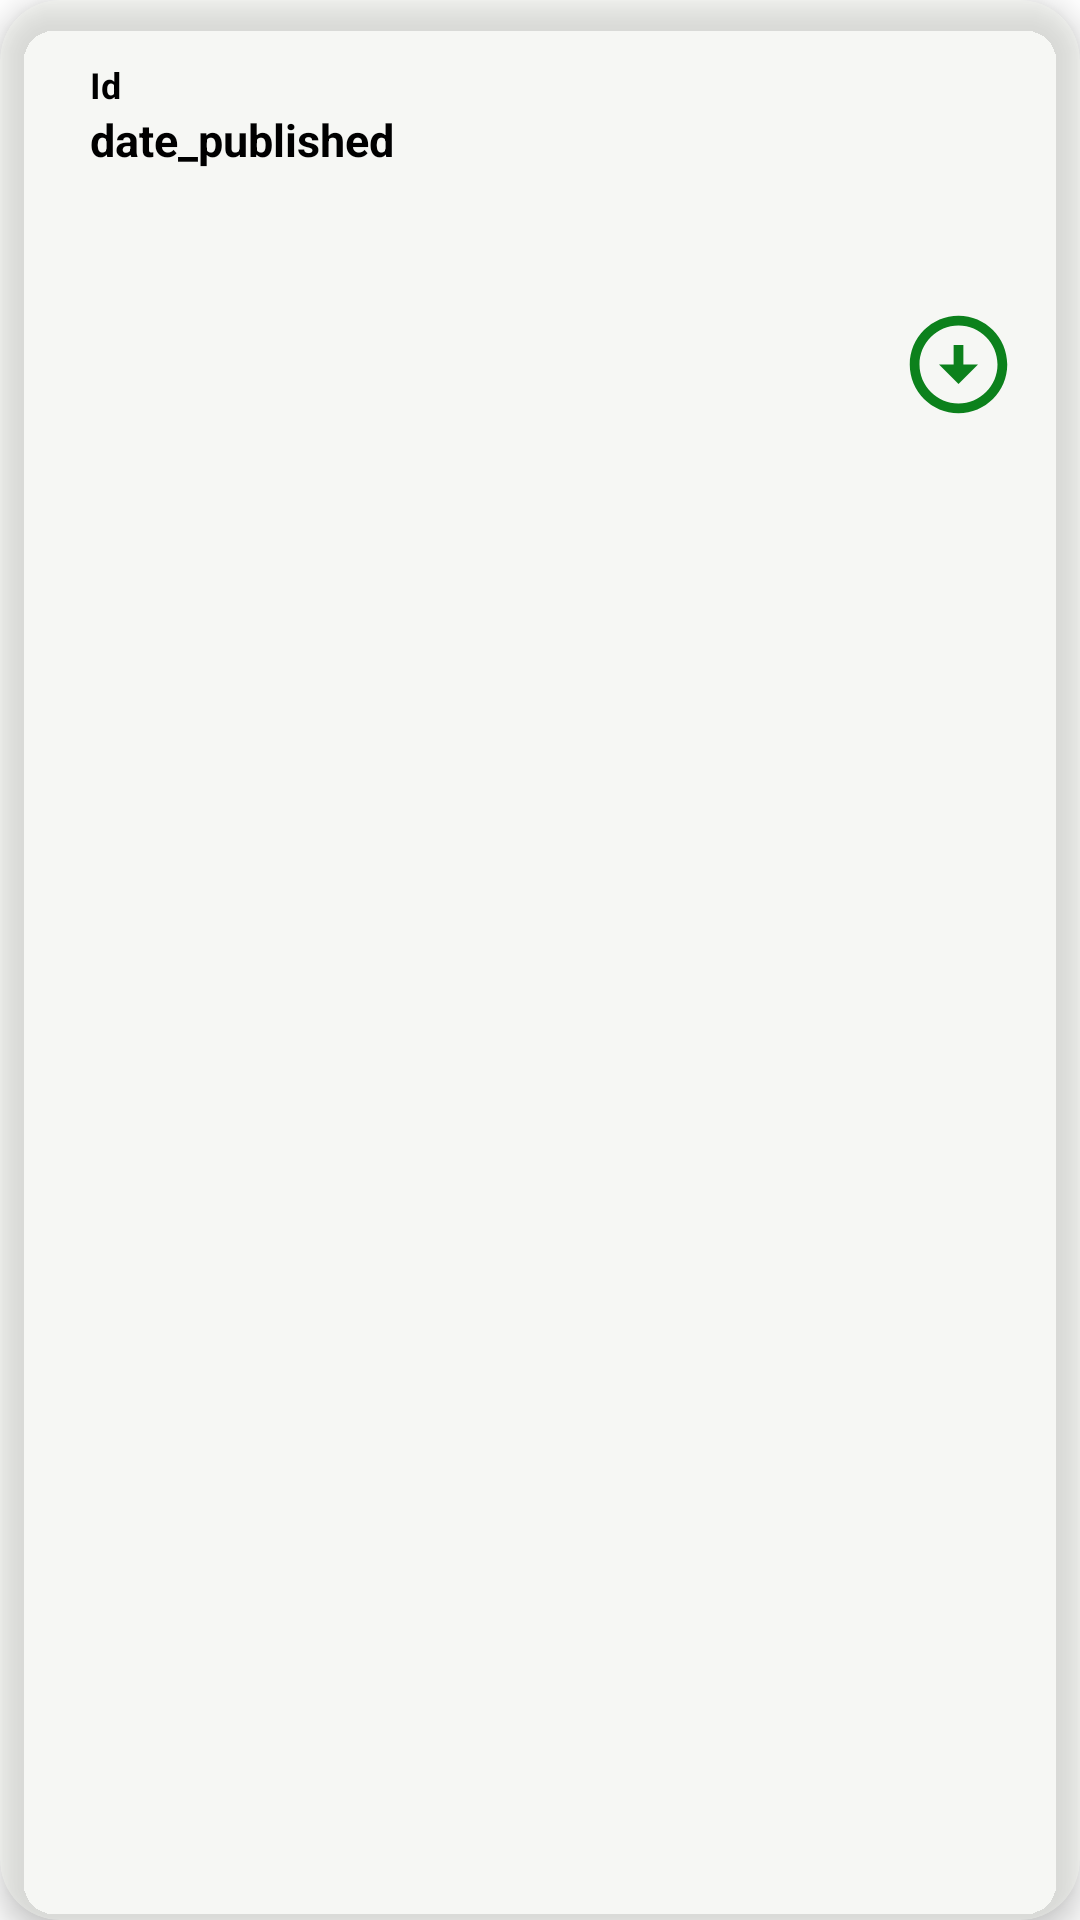

Locate icon controls on the screen. Image size 1080x1920, boxes as (x1=x1, y1=y1, x2=x2, y2=y2).
download: (x1=909, y1=315, x2=1008, y2=414)
